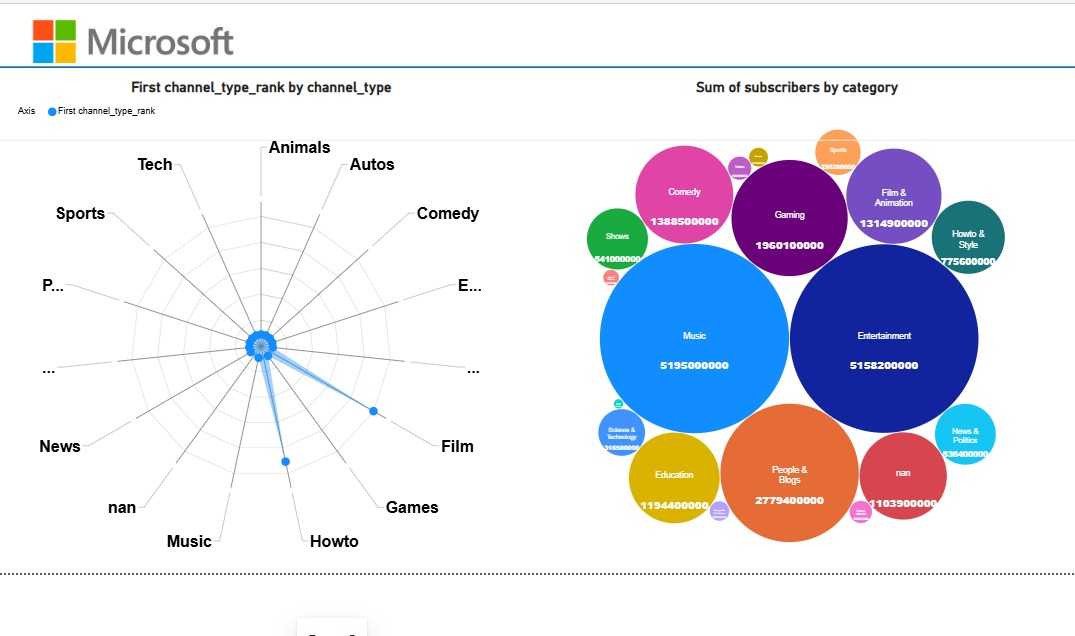

The page's visual inventory and layout, read from the dashboard file:
{"tool":"powerbi","page":{"name":"Page 2","canvas":[1280,720],"ordinal":1},"visuals":[{"type":"RadarChart1446119667547","fields":{"Category":["Global YouTube Statistics.channel_type"],"Y":["Min(Global YouTube Statistics.channel_type_rank)"]},"box":[17.7,139.6,579.8,579.8],"z":0},{"type":"PackedBubbleChart","fields":{"category":["Global YouTube Statistics.category"],"measure":["Sum(Global YouTube Statistics.subscribers)"]},"box":[597.4,139.6,675.2,579.8],"z":1000},{"type":"shape","box":[0,42.4,1272.6,169.7],"z":2000},{"type":"image","box":[8.8,30,298.7,132.6],"z":3000}]}

Visuals, with their boxes on the page's 1280x720 design canvas (x1, y1, x2, y2). These are canvas units, not pixel positions in the 1075x636 screenshot, which may show the page scaled, cropped or inside an application window:
RadarChart1446119667547 - Global YouTube Statistics.channel_type x Min(Global YouTube Statistics.channel_type_rank): rect(18, 140, 598, 719)
PackedBubbleChart - Global YouTube Statistics.category x Sum(Global YouTube Statistics.subscribers): rect(597, 140, 1273, 719)
shape: rect(0, 42, 1273, 212)
image: rect(9, 30, 308, 163)
